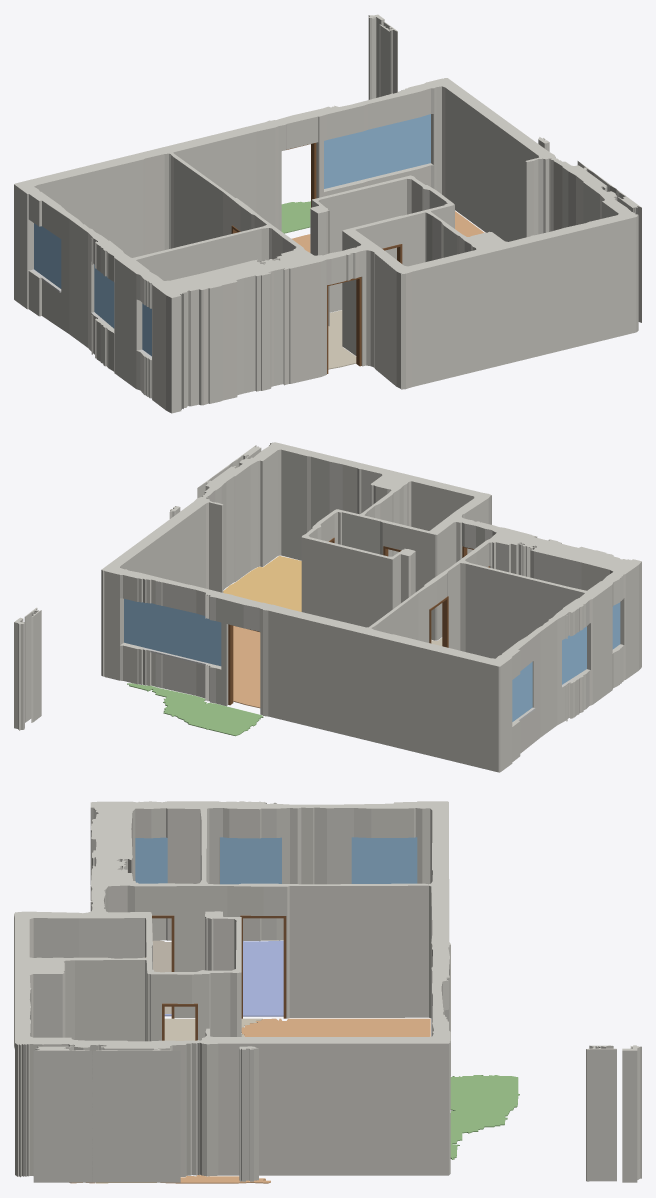
The picture shows the model from 3 angles, top to bottom: view 1: azimuth 30°, elevation 25°; view 2: azimuth 150°, elevation 25°; view 3: azimuth 270°, elevation 25°; orthographic projection. The views are drawn at different scales.
Visible parts, largest first — view 1: walls, window_6, window_7, floor_11_Entry, window_8, floor_0_Outdoor, door_5, floor_6_Living_Room; view 2: walls, window_6, floor_2_Kitchen, floor_0_Outdoor, floor_6_Living_Room, window_8, window_7, door_0, door_1; view 3: walls, floor_0_Outdoor, floor_6_Living_Room, floor_8_Bed_Room, window_7, window_8, window_9, floor_11_Entry, door_1, floor_12_Storage, floor_5_Living_Room.
Part boxes in pixels (x1=…): walls: x1=14, y1=14, x2=641, y2=413; window_6: x1=324, y1=114, x2=430, y2=188; window_7: x1=34, y1=223, x2=61, y2=288; floor_11_Entry: x1=328, y1=310, x2=356, y2=369; window_8: x1=94, y1=264, x2=114, y2=328; floor_0_Outdoor: x1=281, y1=201, x2=310, y2=233; door_5: x1=327, y1=277, x2=361, y2=373; floor_6_Living_Room: x1=291, y1=211, x2=484, y2=252; walls: x1=14, y1=442, x2=641, y2=772; window_6: x1=124, y1=599, x2=221, y2=666; floor_2_Kitchen: x1=223, y1=556, x2=301, y2=611; floor_0_Outdoor: x1=127, y1=683, x2=263, y2=736; floor_6_Living_Room: x1=233, y1=626, x2=260, y2=708; window_8: x1=562, y1=626, x2=586, y2=684; window_7: x1=512, y1=662, x2=532, y2=721; door_0: x1=228, y1=624, x2=259, y2=705; door_1: x1=429, y1=596, x2=448, y2=647; walls: x1=14, y1=801, x2=641, y2=1182; floor_0_Outdoor: x1=450, y1=1075, x2=519, y2=1159; floor_6_Living_Room: x1=241, y1=1018, x2=430, y2=1036; floor_8_Bed_Room: x1=243, y1=940, x2=283, y2=1016; window_7: x1=351, y1=837, x2=417, y2=883; window_8: x1=220, y1=837, x2=281, y2=884; window_9: x1=135, y1=837, x2=167, y2=883; floor_11_Entry: x1=164, y1=1018, x2=262, y2=1040; door_1: x1=240, y1=915, x2=286, y2=1018; floor_12_Storage: x1=152, y1=940, x2=171, y2=1013; floor_5_Living_Room: x1=160, y1=1175, x2=270, y2=1183.
Size of the model in its own units: 10.94 by 2.72 by 11.64.
